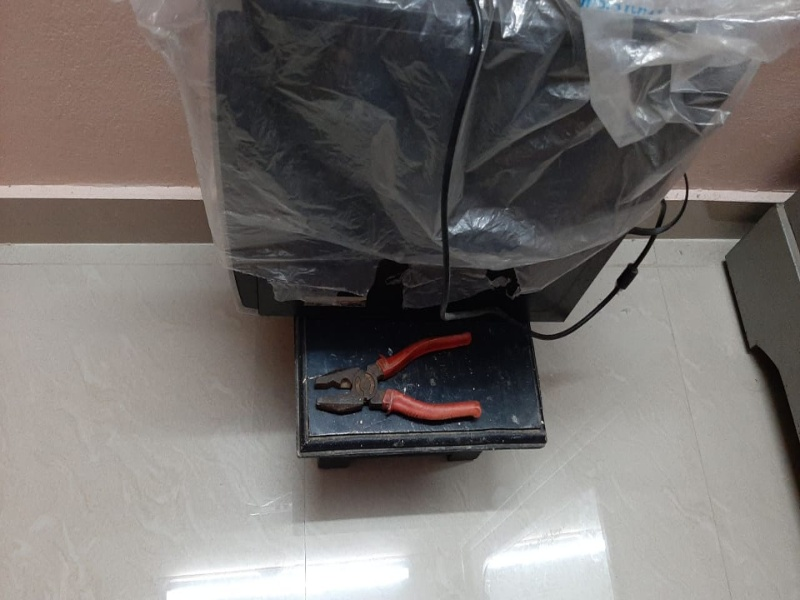cuttingplier: (309, 331, 489, 420)
